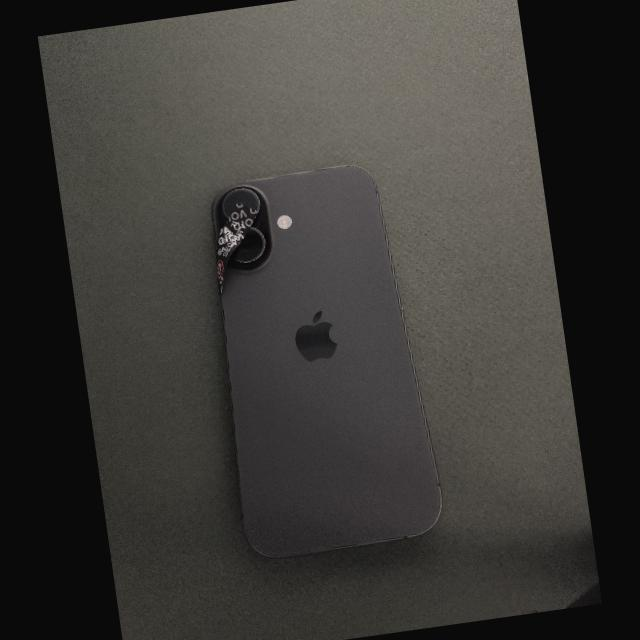lens: (231, 227, 265, 262), (223, 189, 259, 217)
phone: (212, 166, 442, 557)
sticker: (215, 202, 258, 300)
